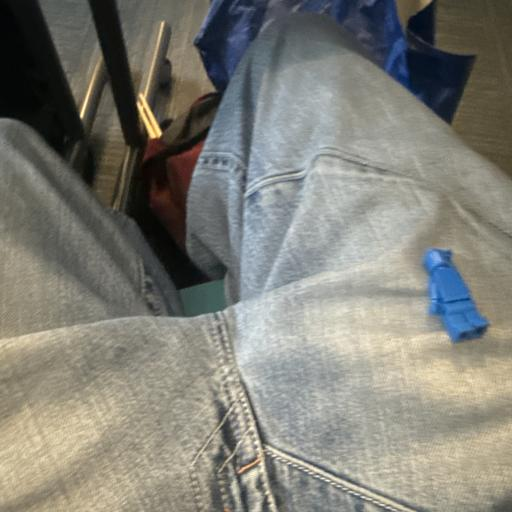Minifig: (423, 248, 489, 342)
